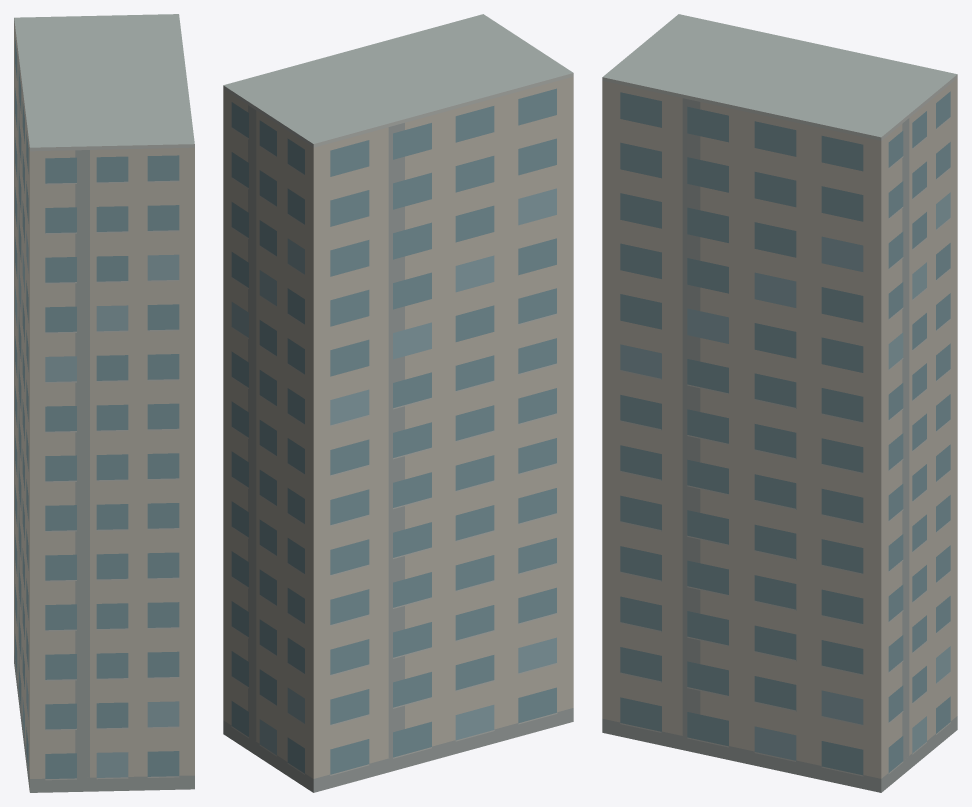
File: residential-a77a5971-2939-4caa-bcbc-56d6a2fb1ead.glb
The picture shows the model from 3 angles, left to right: view 1: azimuth 30°, elevation 25°; view 2: azimuth 150°, elevation 25°; view 3: azimuth 270°, elevation 25°; orthographic projection.
Parts seen in each view (by area): view 1: residential-a77a5971-2939-4caa-bcbc-56d6a2fb1ead.tmp; view 2: residential-a77a5971-2939-4caa-bcbc-56d6a2fb1ead.tmp; view 3: residential-a77a5971-2939-4caa-bcbc-56d6a2fb1ead.tmp.
Boxes of the visible parts, x1=… form: residential-a77a5971-2939-4caa-bcbc-56d6a2fb1ead.tmp: x1=14, y1=14, x2=194, y2=792; residential-a77a5971-2939-4caa-bcbc-56d6a2fb1ead.tmp: x1=223, y1=14, x2=573, y2=792; residential-a77a5971-2939-4caa-bcbc-56d6a2fb1ead.tmp: x1=602, y1=14, x2=957, y2=792.
Bounding box in the file's own units: 17.77 × 44 × 21.62.
